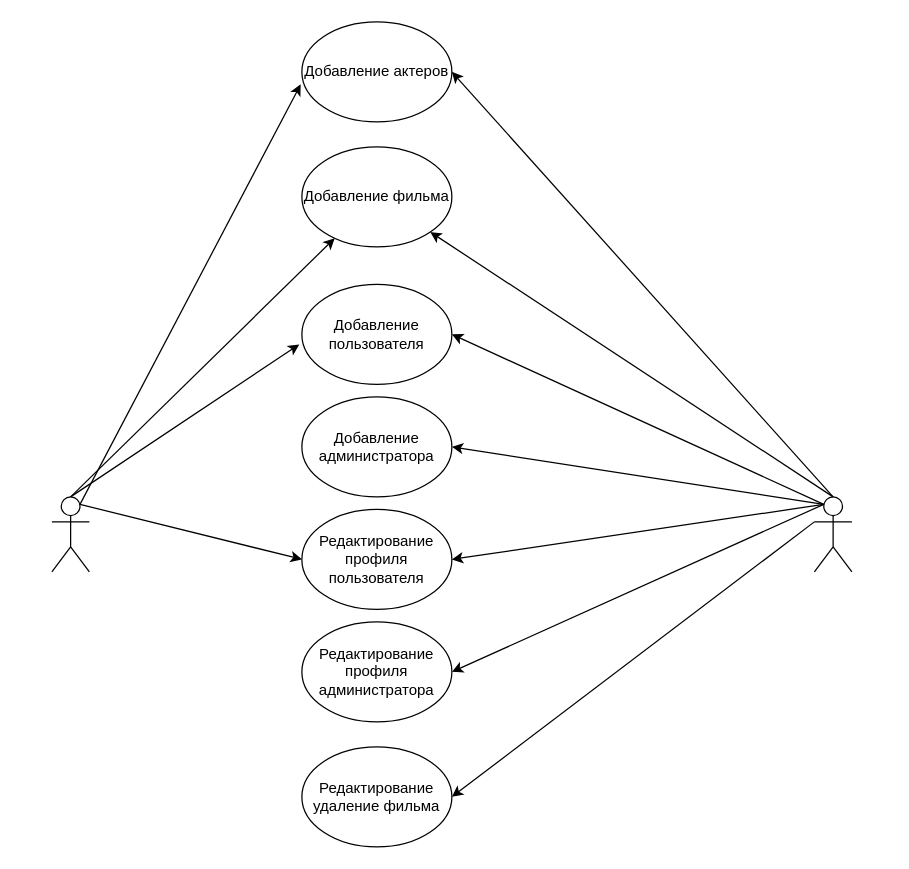
Some shapes in this 909 by 869 pixel diagram are drawn without their labels. The centre of each missing label's shape, as x and y in pixels:
"Администратор" goes at pixel 832 534.
"Пользователь" goes at pixel 70 534.
